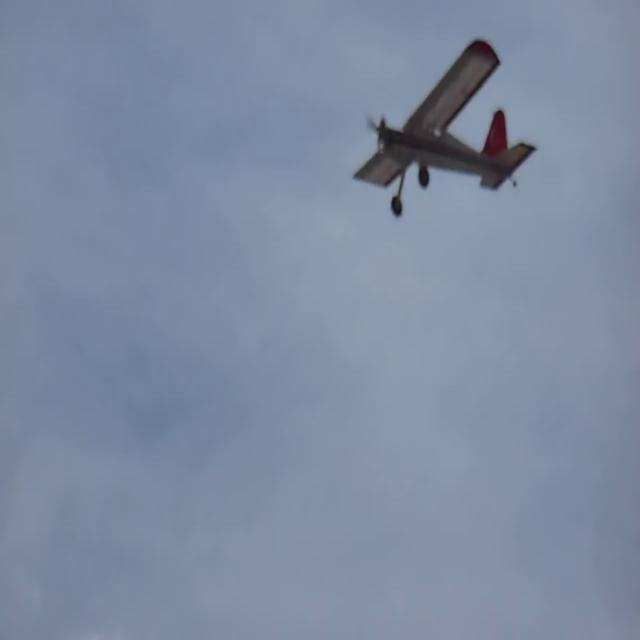iha: (352, 0, 539, 148)
